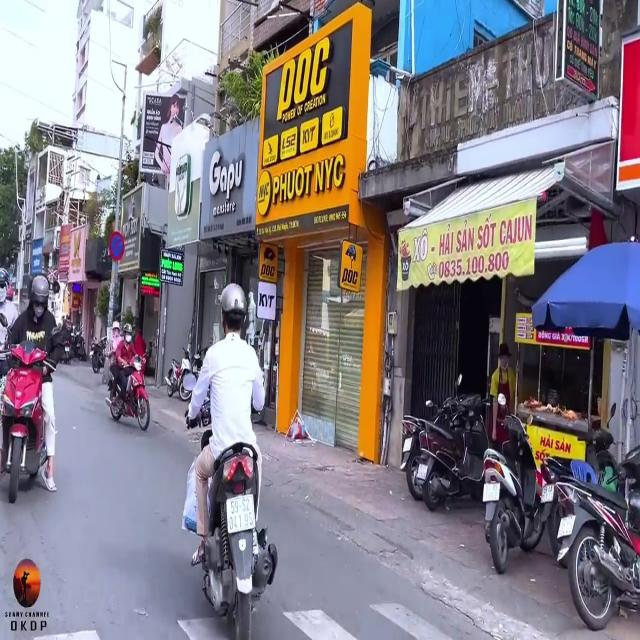bien_trang: (222, 492, 259, 536)
